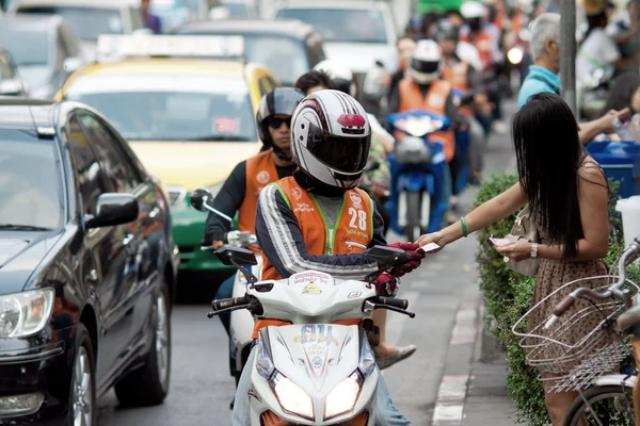helm: (292, 92, 379, 191), (255, 89, 315, 155), (410, 36, 447, 88), (313, 59, 356, 95)
motor: (206, 246, 415, 426)
non-helm: (295, 72, 336, 97)
